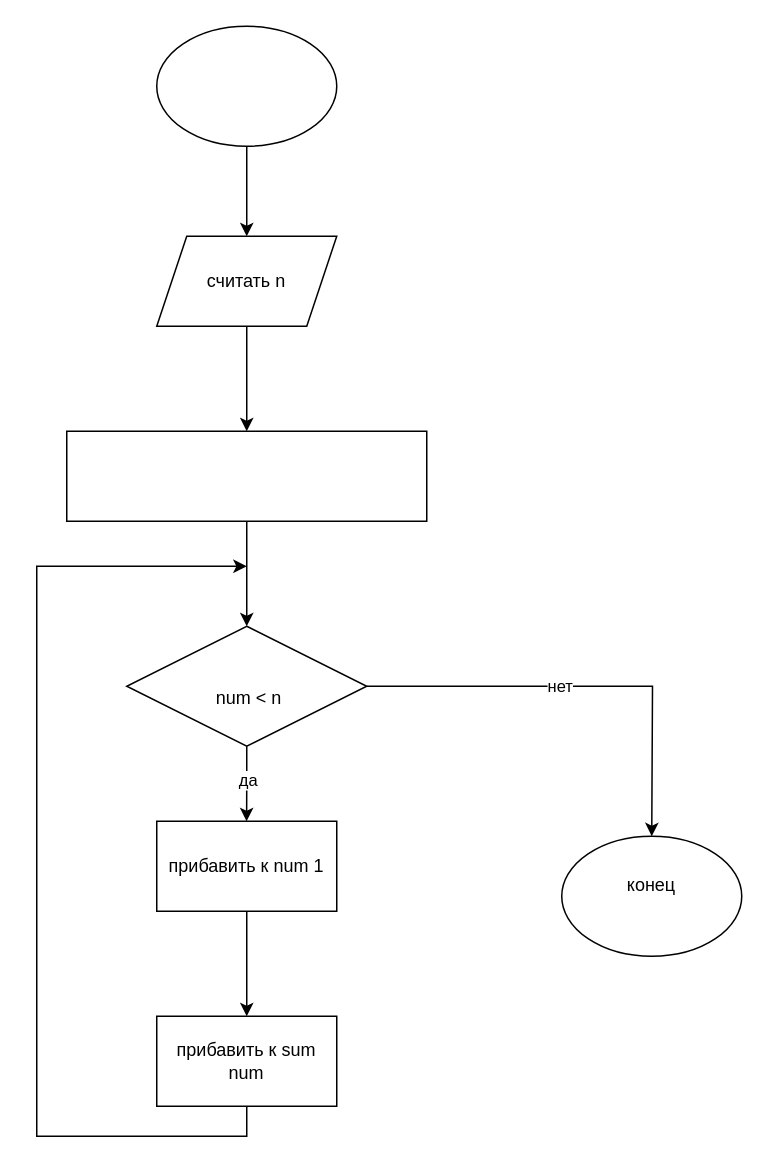
This 768x1175 diagram has some shape labels left out. Each missing label, with the centre of its shape:
начало: the point at 246,85
присвоить переменным sum и num значения 0: the point at 246,475
